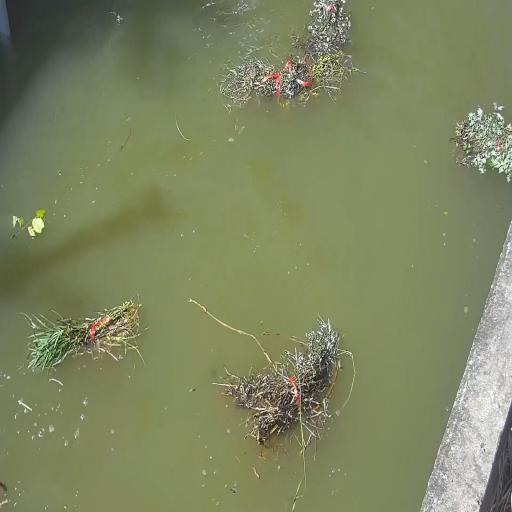twig: (209, 310, 348, 462), (23, 293, 146, 374), (220, 48, 341, 108), (452, 98, 512, 185), (302, 0, 353, 60)
